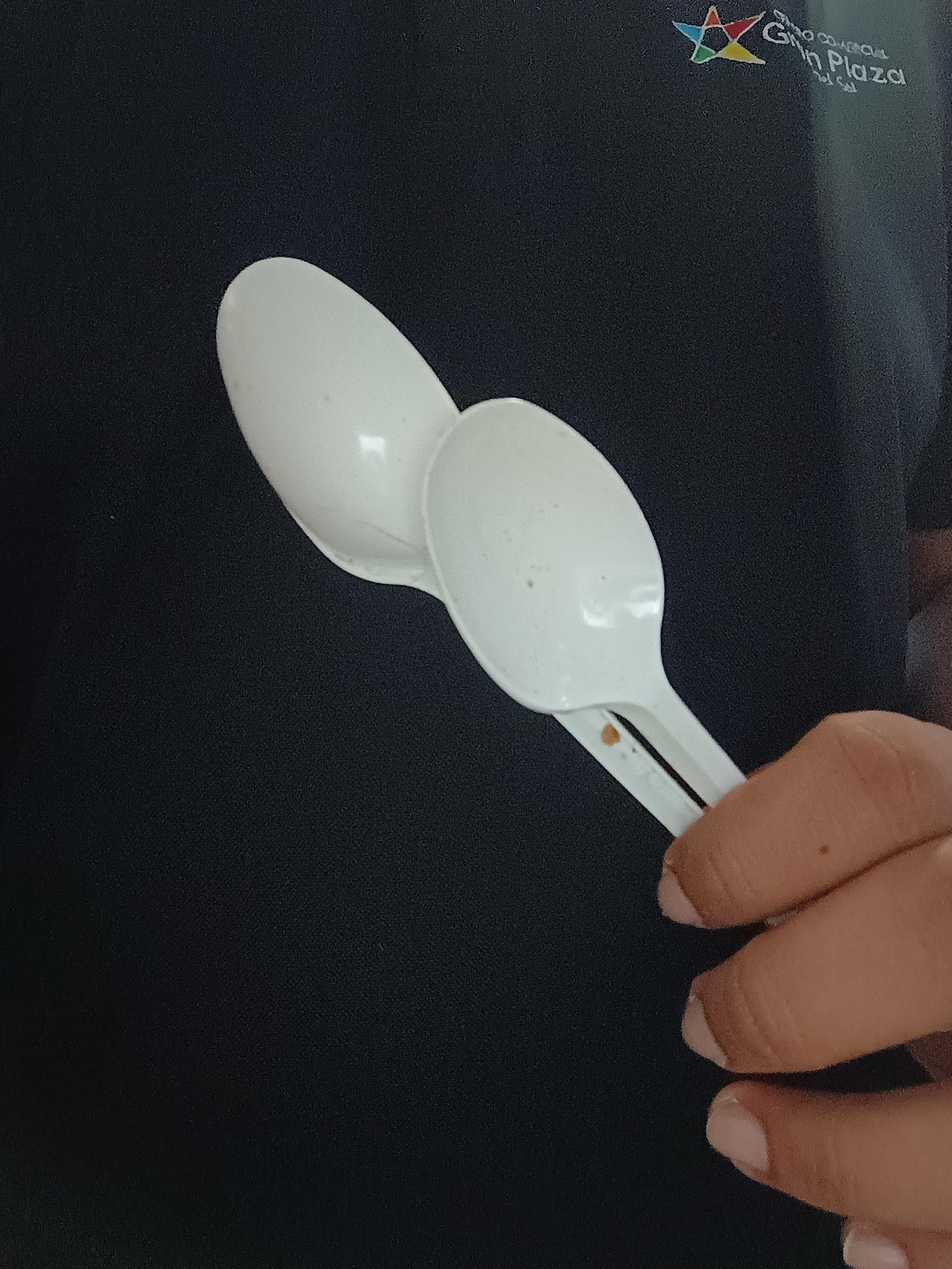Ordinario: (212, 257, 754, 842)
